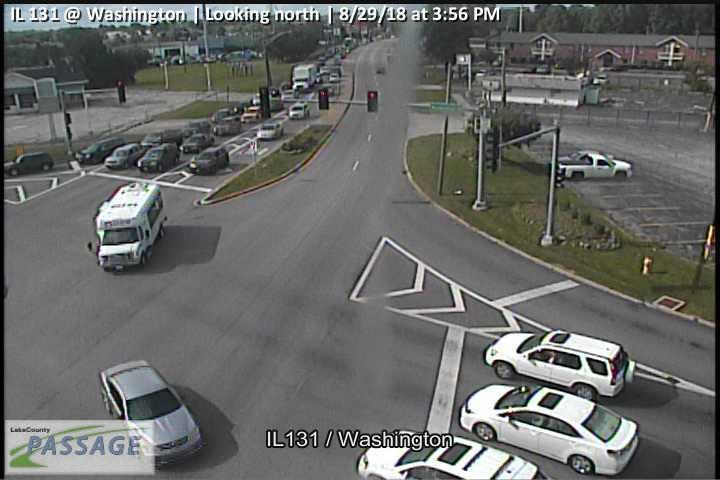SUV: (481, 329, 637, 402), (74, 135, 127, 166), (2, 151, 55, 176), (138, 141, 180, 172), (188, 145, 230, 175), (103, 142, 145, 170), (140, 127, 183, 148), (213, 116, 241, 136), (181, 118, 210, 136), (257, 120, 283, 140), (287, 102, 310, 120), (240, 106, 264, 123)
Sedan: (457, 382, 640, 477), (98, 360, 204, 470), (357, 430, 551, 480), (179, 133, 215, 154)
Truck: (86, 180, 167, 271), (550, 150, 632, 181), (292, 63, 317, 91)
